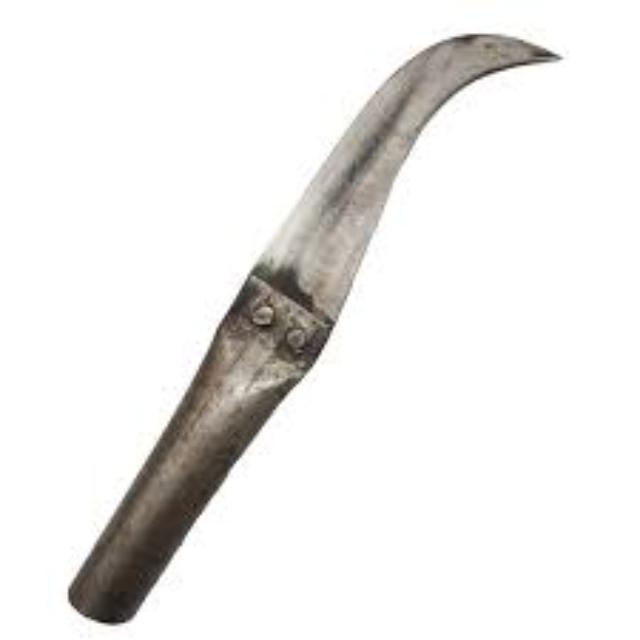Knife: (66, 29, 560, 623)
